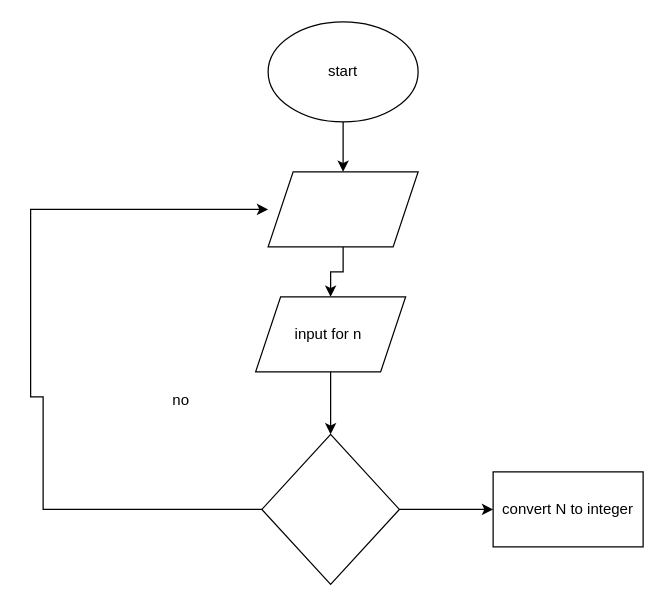
Image size: 665x606. Some labels were removed from this diagram. Here are the shapes that lost their labels. From the top down, the centre of each, then its label:
[342,209]: print "enter a integer
[330,508]: if N[0] is between '0' and '9'
